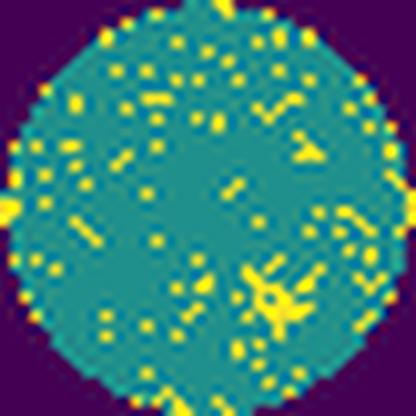Loc: (240, 268, 315, 340), (292, 132, 330, 164)
